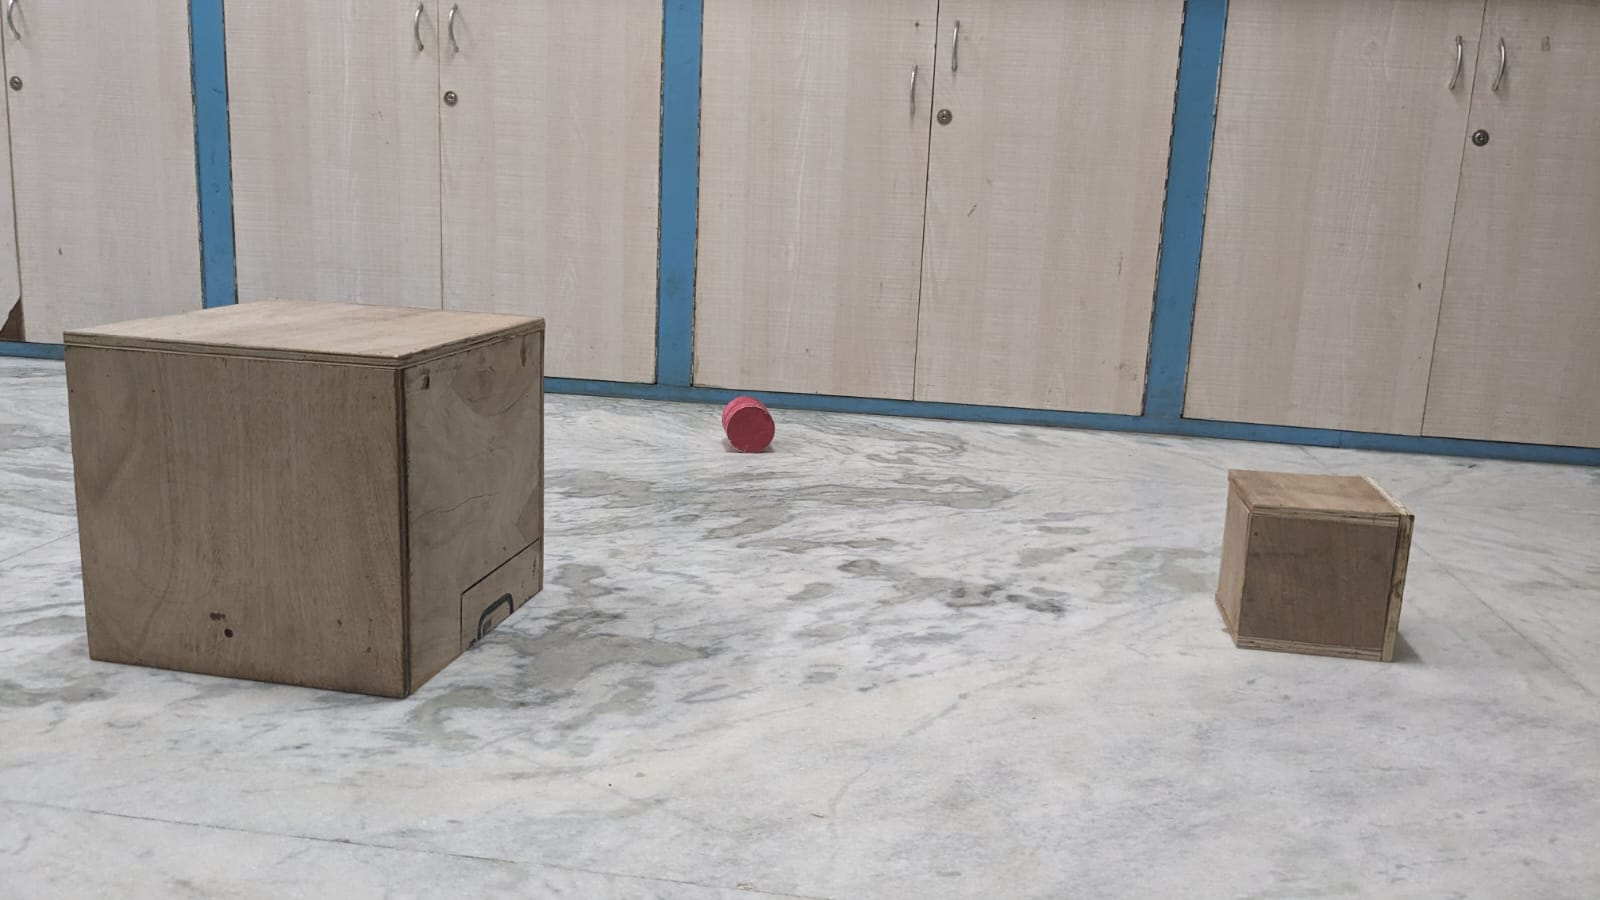150mm obstacle: (1211, 455, 1426, 678)
300mm obstacle: (55, 284, 566, 704)
testtube: (700, 397, 801, 466)
